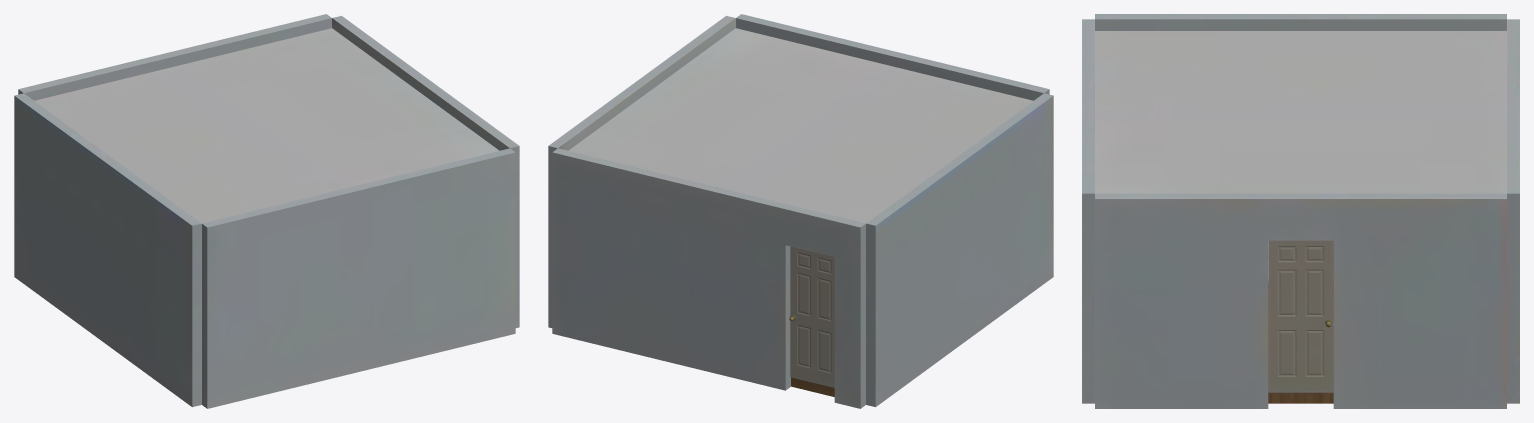
File: isometric.glb
3 views of the same model, side by side, from view 1: azimuth 30°, elevation 25°; view 2: azimuth 150°, elevation 25°; view 3: azimuth 270°, elevation 25° (orthographic). The views are drawn at different scales.
Parts seen in each view (by area): view 1: wall_E, ceiling, wall_S, wall_W, wall_N; view 2: wall_W, ceiling, wall_S, door_W, wall_E, wall_N; view 3: wall_N, ceiling, door_N, wall_S, wall_E, wall_W, floor.
Boxes of the visible parts, x1,y1,x2,y2 form: wall_E: [202, 148, 515, 408]; ceiling: [34, 18, 509, 223]; wall_S: [14, 93, 201, 407]; wall_W: [18, 14, 331, 100]; wall_N: [332, 15, 519, 327]; wall_W: [552, 148, 865, 408]; ceiling: [558, 18, 1033, 223]; wall_S: [866, 93, 1053, 407]; door_W: [789, 246, 834, 387]; wall_E: [736, 14, 1049, 100]; wall_N: [548, 15, 735, 327]; wall_N: [1095, 193, 1506, 408]; ceiling: [1095, 31, 1506, 193]; door_N: [1268, 240, 1333, 392]; wall_S: [1095, 14, 1506, 30]; wall_E: [1082, 19, 1094, 403]; wall_W: [1507, 19, 1519, 403]; floor: [1268, 241, 1333, 403].
Bounding box in the file's own units: 5.18 × 2.74 × 5.18.
Materials: 1 (1 with a texture image).
